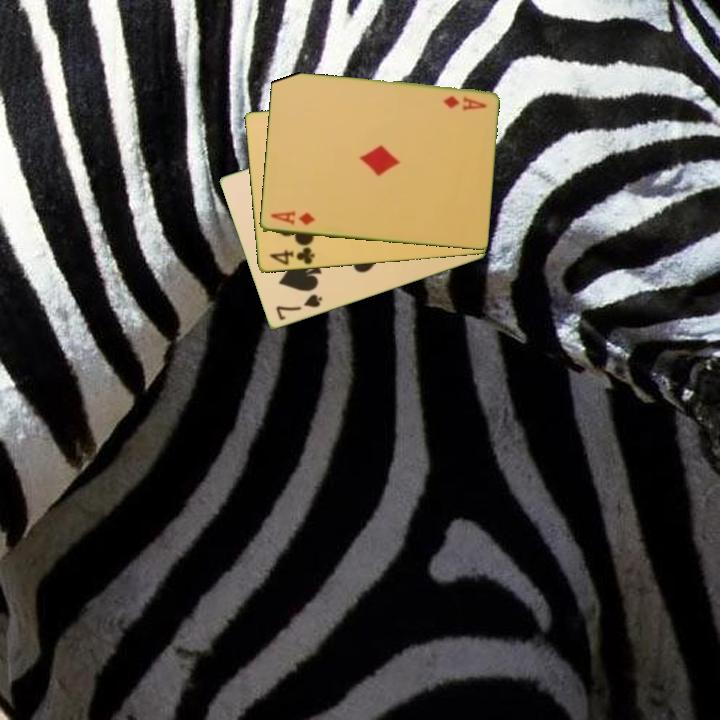4c: (265, 244, 317, 268)
7s: (272, 291, 325, 323)
Ad: (267, 208, 317, 228), (439, 93, 489, 113)
